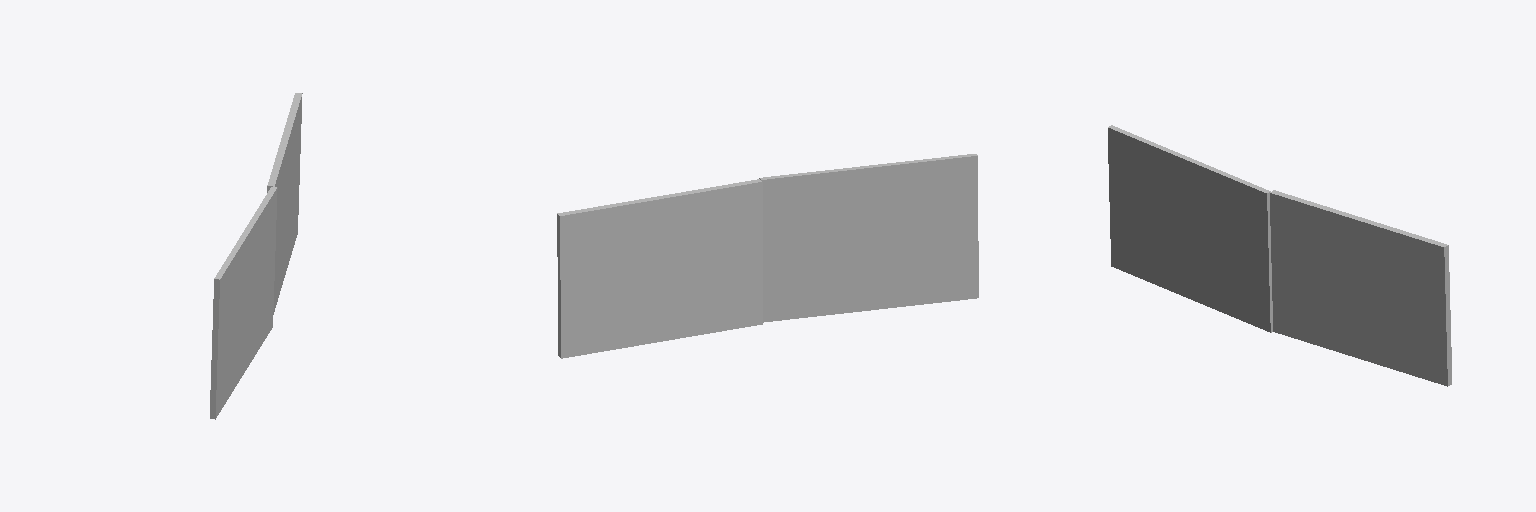
Rendered from gate1.obj.
3 views of the same model, side by side, from view 1: azimuth 30°, elevation 25°; view 2: azimuth 150°, elevation 25°; view 3: azimuth 270°, elevation 25° (orthographic).
Parts seen in each view (by area): view 1: Cylinder.005_Cylinder.006; view 2: Cylinder.005_Cylinder.006; view 3: Cylinder.005_Cylinder.006.
Boxes of the visible parts, x1=… form: Cylinder.005_Cylinder.006: x1=210, y1=93, x2=302, y2=419; Cylinder.005_Cylinder.006: x1=557, y1=154, x2=978, y2=358; Cylinder.005_Cylinder.006: x1=1108, y1=125, x2=1451, y2=386.
Size of the model in its own units: 9.59 by 5.08 by 11.13.